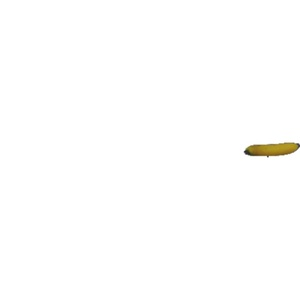banana: (242, 139, 300, 159)
